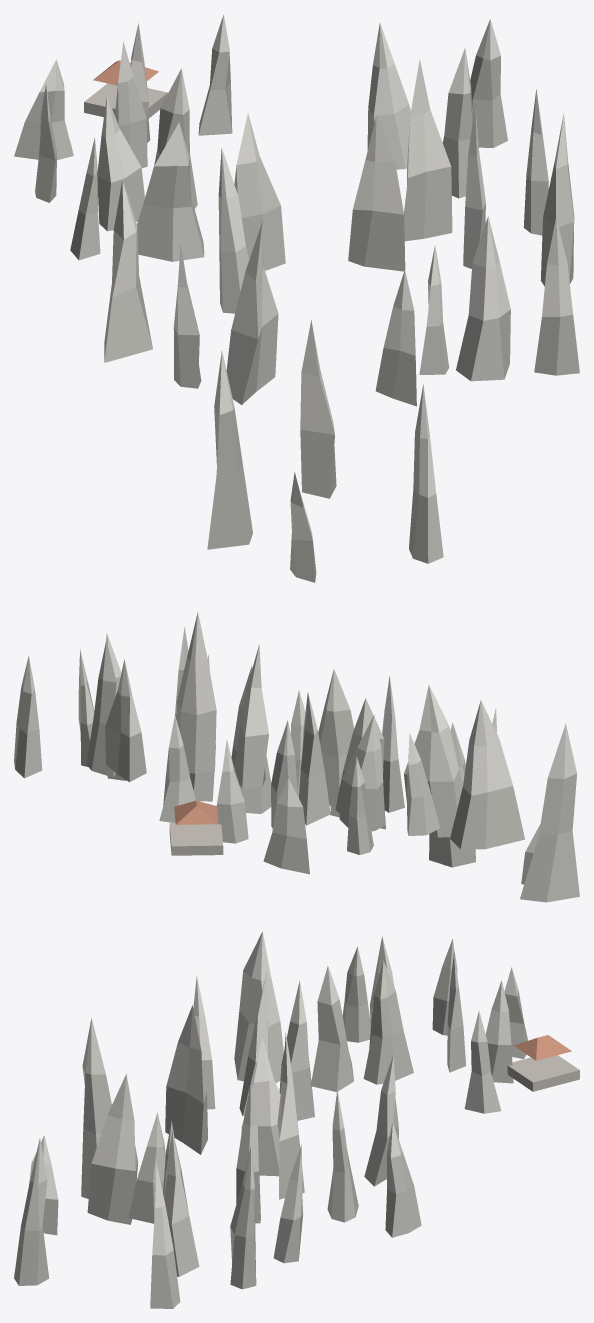
The model's file is hinboun-far.glb.
3 renders of one model, top to bottom at view 1: azimuth 30°, elevation 25°; view 2: azimuth 150°, elevation 25°; view 3: azimuth 270°, elevation 25°, orthographic. The views are drawn at different scales.
Visible parts, largest first — view 1: hinboun_far; view 2: hinboun_far; view 3: hinboun_far.
Part boxes in pixels (box(x1,y1,x2,y2)): hinboun_far: box(14, 14, 579, 582); hinboun_far: box(14, 612, 579, 902); hinboun_far: box(14, 931, 579, 1308).
Size of the model in its own units: 62.75 by 43.03 by 71.51.
